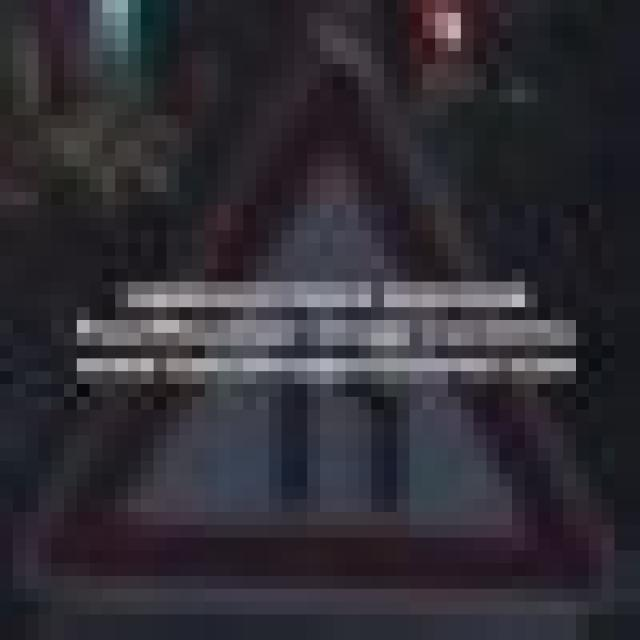narrow_road: (13, 26, 627, 627)
